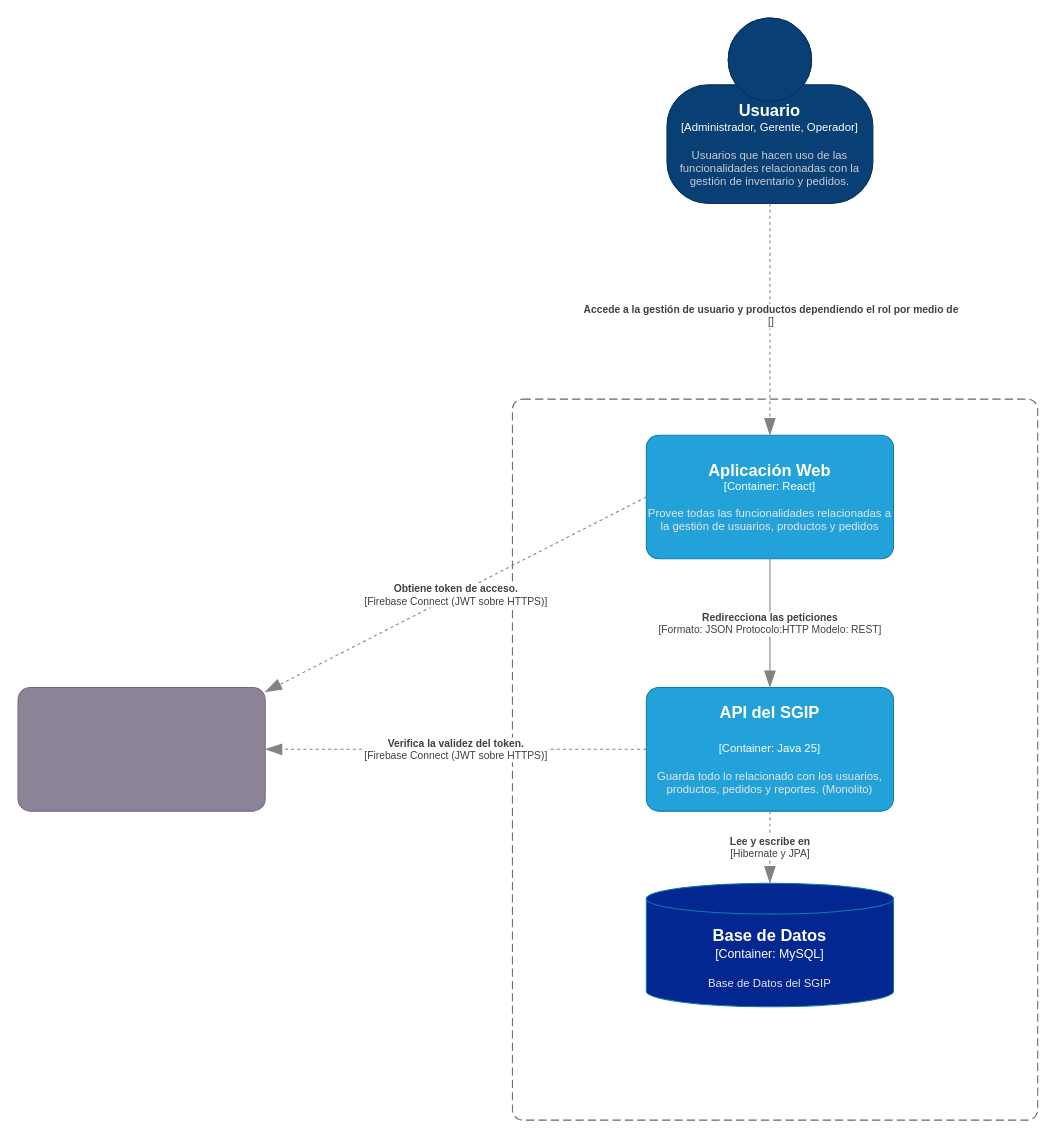
Image size: 1056x1138. Some labels were removed from this diagram. Here are the shapes that lost their labels. From the top down, the box of each, then its label:
(17, 686, 265, 811): Firebase Authentication [Software System] Permite el inicio de sesión
(511, 398, 1038, 1120): Inventario de Gestión y pedidos [Version 1.0.0]
